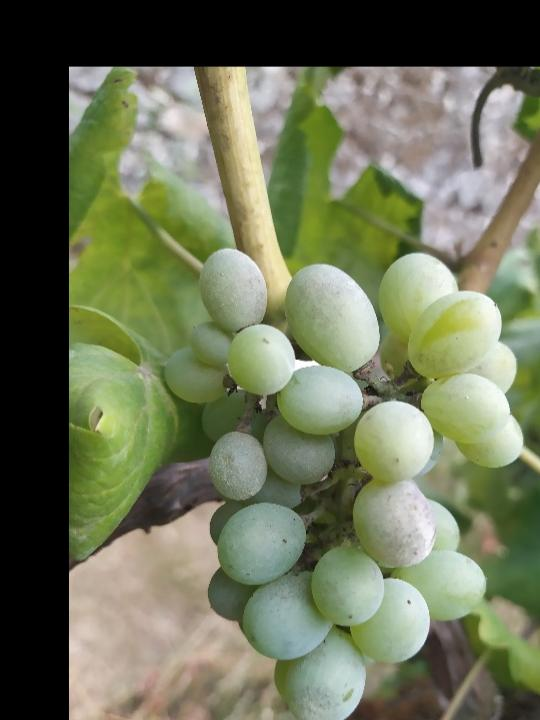grape: (163, 240, 528, 720)
